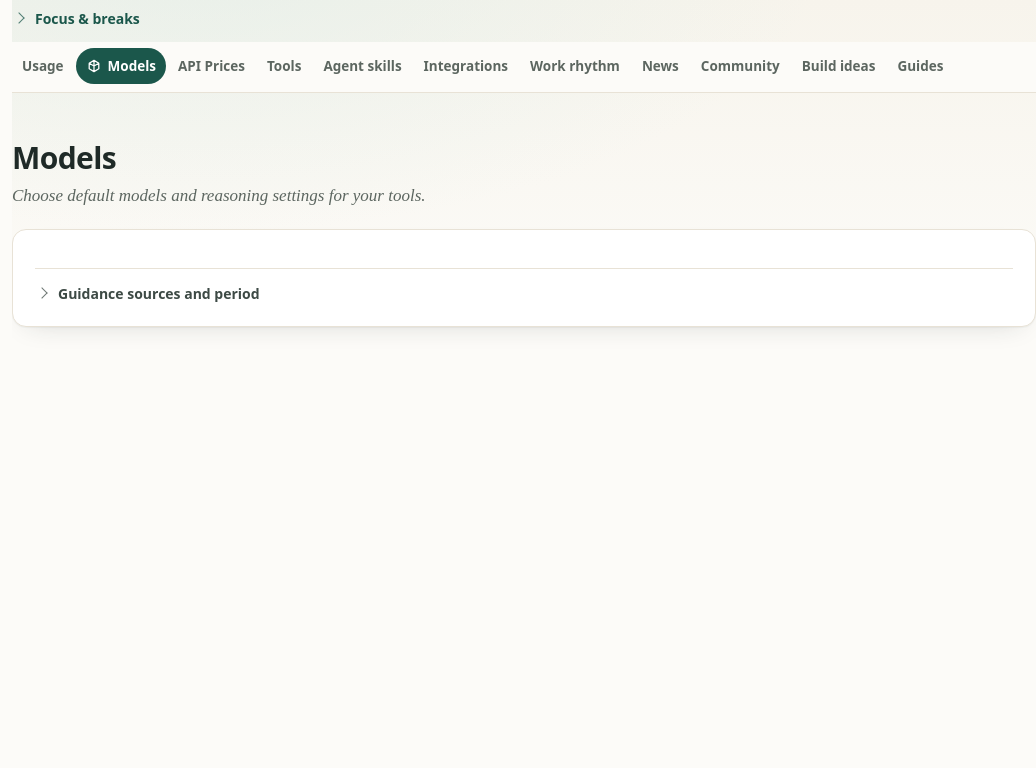
Test: separates the API market from Models and keeps focus controls as the reader left them
Expected: the element "Token prices" is not shown
Click the heading "Focus & breaks": click(87, 18) [35,9,140,28]
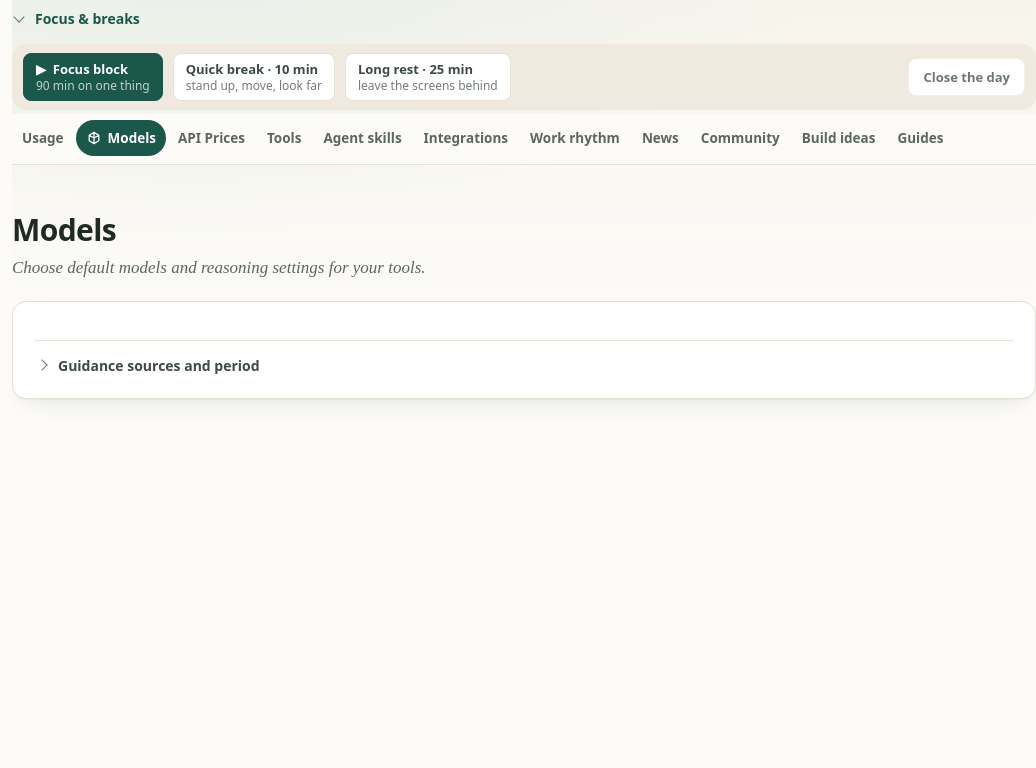
Expected: the text "Focus & breaks" has attribute open, [12,0,1035,110]
Click the link "API Prices": click(211, 138) [178,129,245,147]
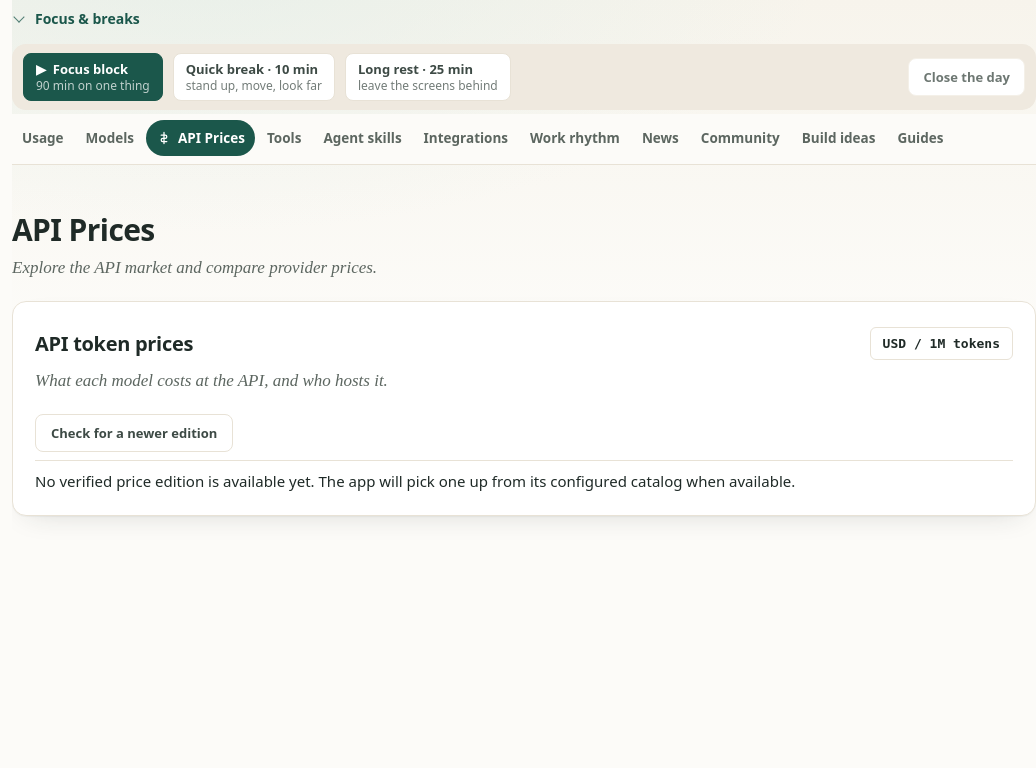
Expected: the element "token prices" is shown, [12,301,1035,516]
